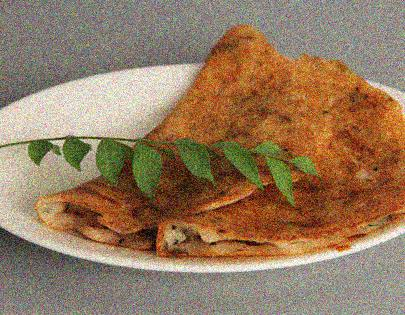dosa: (35, 23, 405, 263)
